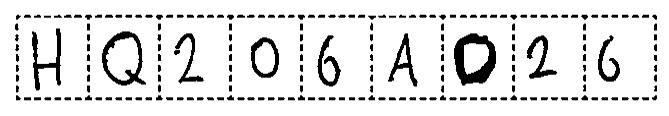0: (450, 30, 500, 87), (243, 33, 284, 84)
2: (168, 29, 212, 90), (522, 33, 560, 82)
6: (312, 32, 345, 90), (592, 32, 624, 88)
A: (382, 30, 427, 88)
H: (26, 24, 69, 93)
Q: (97, 27, 151, 91)
